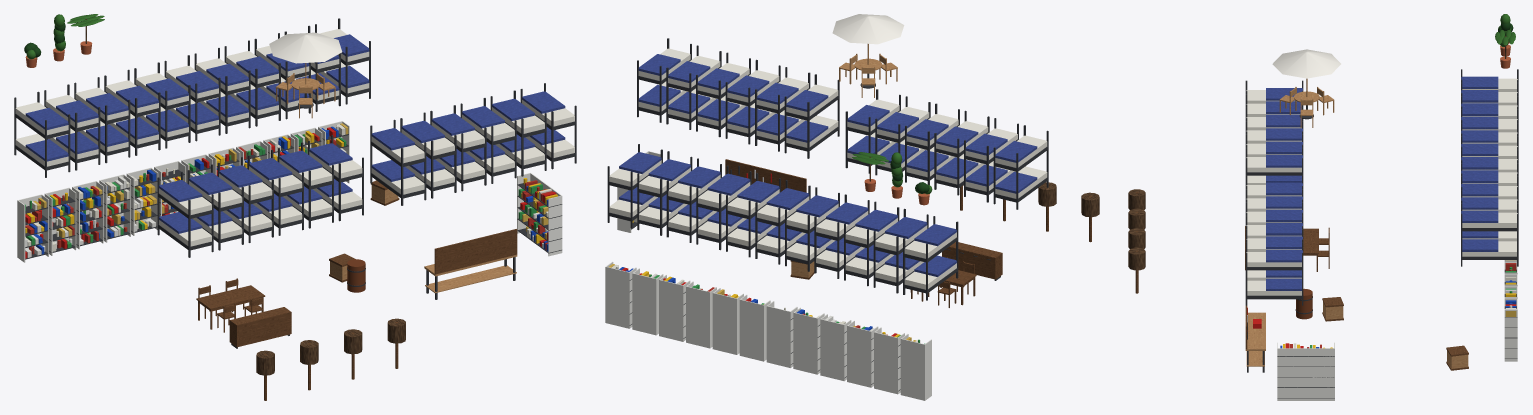
The model's file is i_knight_barracks.gltf.
3 renders of one model, left to right at view 1: azimuth 30°, elevation 25°; view 2: azimuth 150°, elevation 25°; view 3: azimuth 270°, elevation 25°, orthographic. The views are drawn at different scales.
Parts seen in each view (by area): view 1: I_knight_barracks; view 2: I_knight_barracks; view 3: I_knight_barracks.
Boxes of the visible parts, bbox=[...] form: I_knight_barracks: bbox=[14, 14, 576, 400]; I_knight_barracks: bbox=[605, 14, 1099, 400]; I_knight_barracks: bbox=[1128, 14, 1518, 400].
Size of the model in its own units: 15.22 by 9.25 by 13.53.
Materials: 21 (5 with a texture image).
